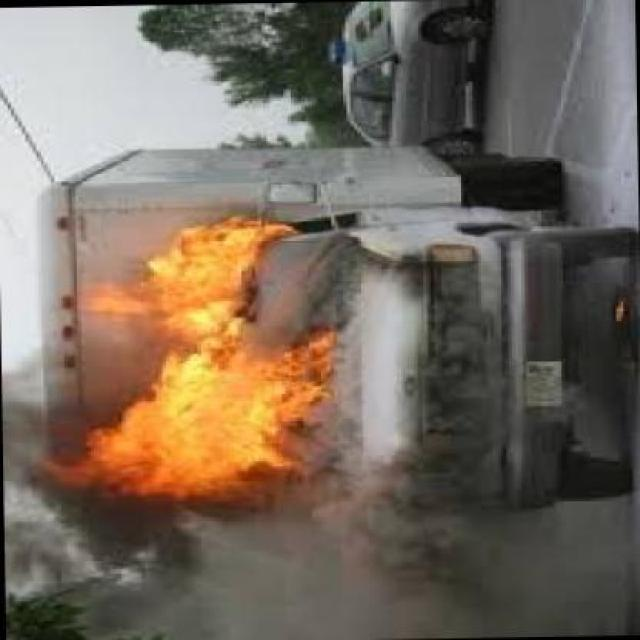Fire: (72, 204, 316, 489)
Smoke: (47, 501, 606, 622), (344, 252, 492, 528)
